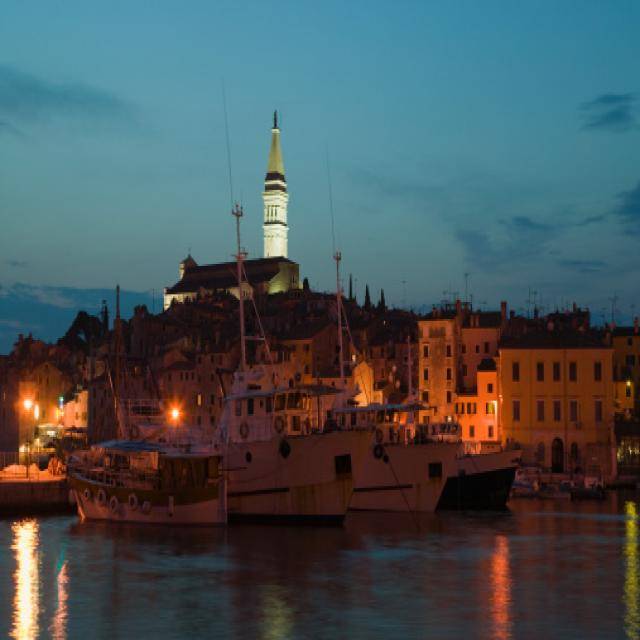Boat: (50, 314, 247, 560), (225, 240, 353, 533), (325, 337, 455, 526), (415, 373, 520, 520)
